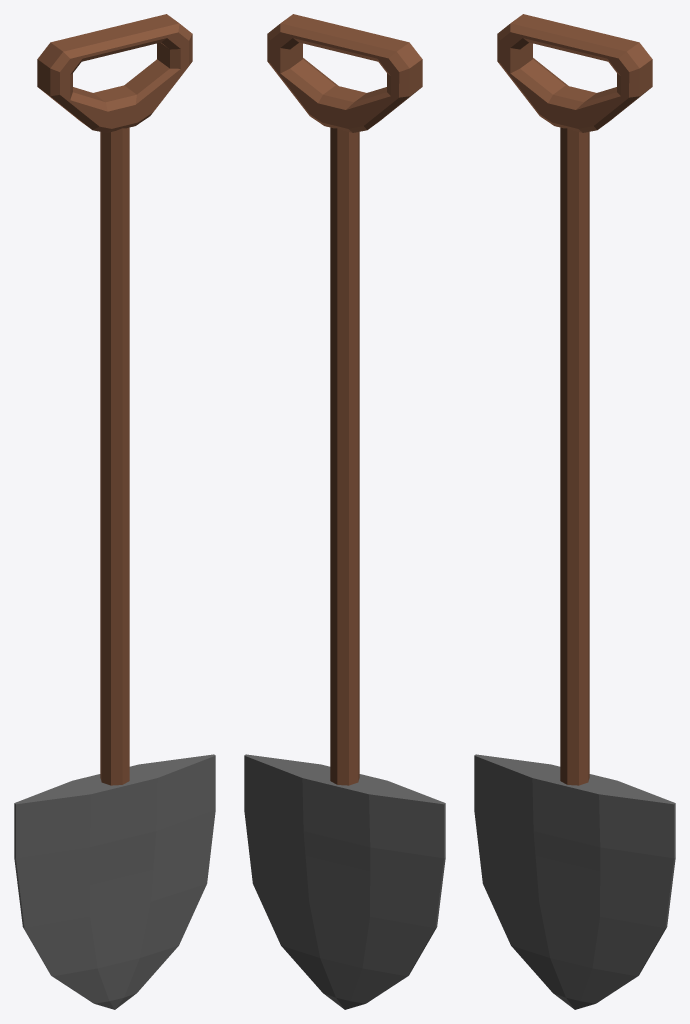
File: Shovel.fbx
3 renders of one model, left to right at view 1: azimuth 30°, elevation 25°; view 2: azimuth 150°, elevation 25°; view 3: azimuth 330°, elevation 25°, orthographic.
Visible parts, largest first — view 1: Shovel; view 2: Shovel; view 3: Shovel.
Boxes of the visible parts, left/top/right/bottom form: Shovel: left=14, top=14, right=215, bottom=1009; Shovel: left=244, top=14, right=445, bottom=1009; Shovel: left=474, top=14, right=675, bottom=1009.
Size of the model in its own units: 0.1985 by 0.927 by 0.0341.
1 material, 1 textured.
